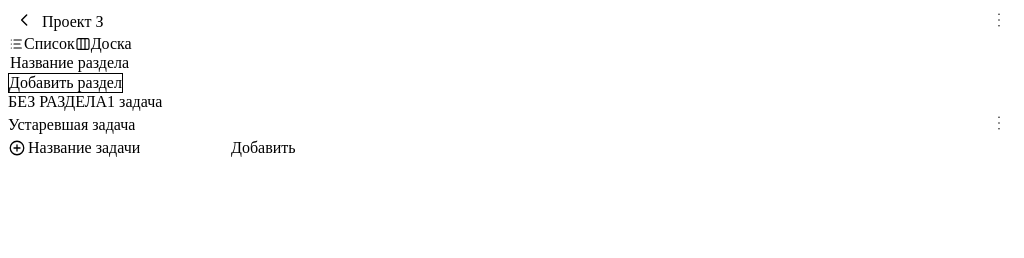
Test: ProjectDetail — действия меню задачи › «Удалить» soft-удаляет задачу (tombstone) — пропадает из списка
The image size is (1024, 258).
Expected: the text "Устаревшая задача" is shown, x1=8 y1=116 x2=135 y2=134
Click the button named "Действия с задачей «Устаревшая задача»": (999, 124) x1=982 y1=111 x2=1016 y2=138
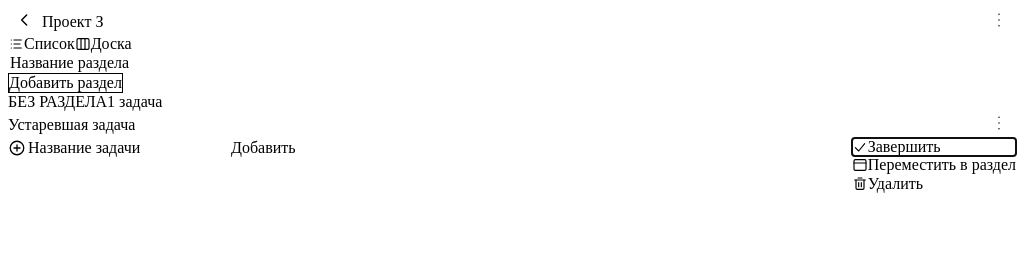
Click the menu item "Удалить": (934, 184) x1=852 y1=175 x2=1016 y2=193
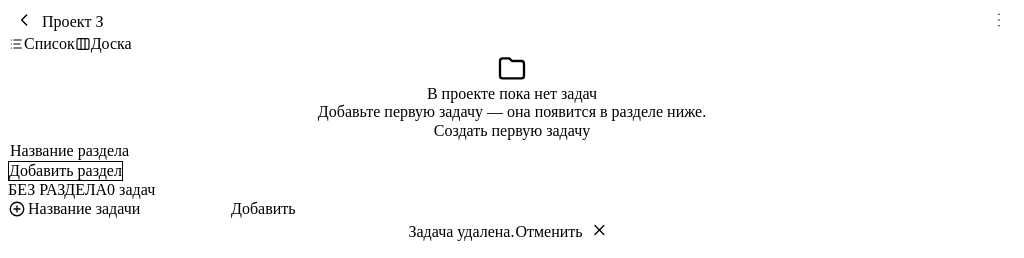
Now the text "Устаревшая задача" is gone
